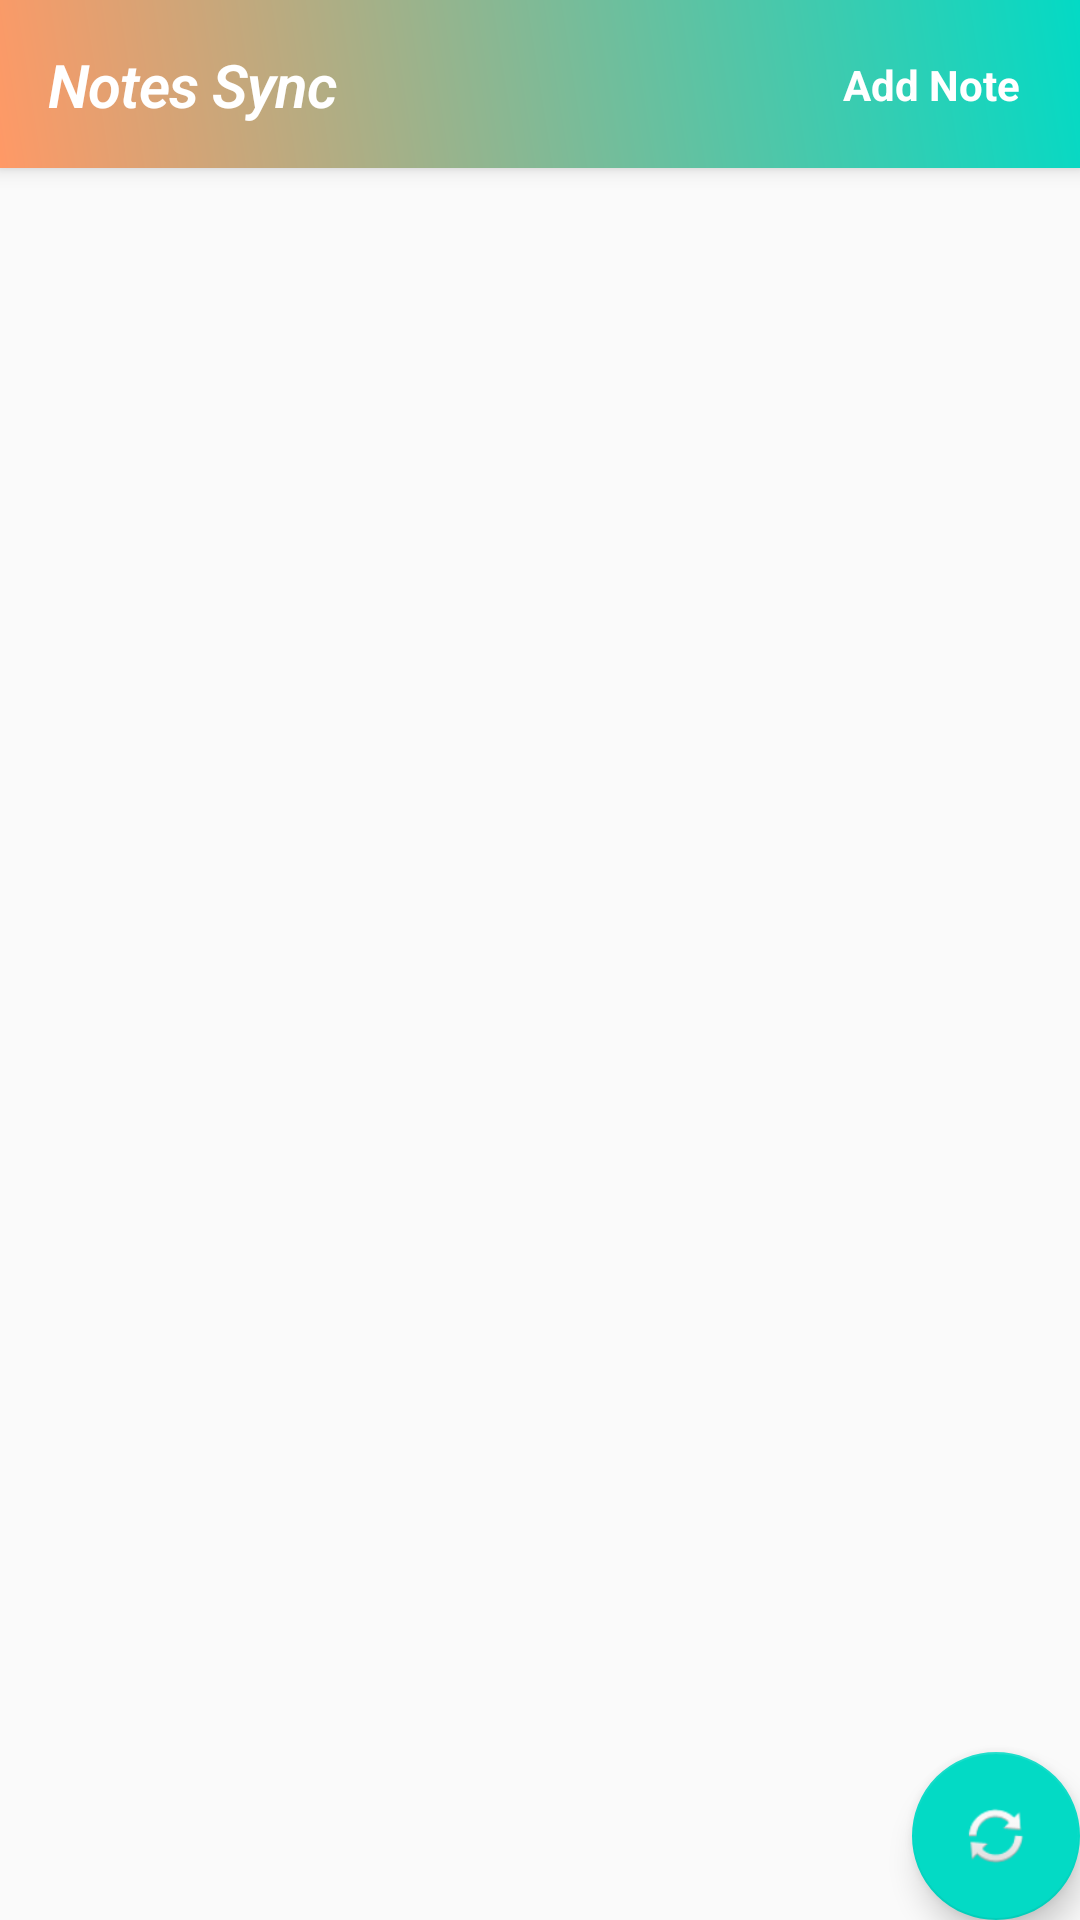

Locate icon controls on the screen. Image size 1080*1920, boxes as (x1, y1, x2, y2).
popup sync: (912, 1752, 1080, 1920)
